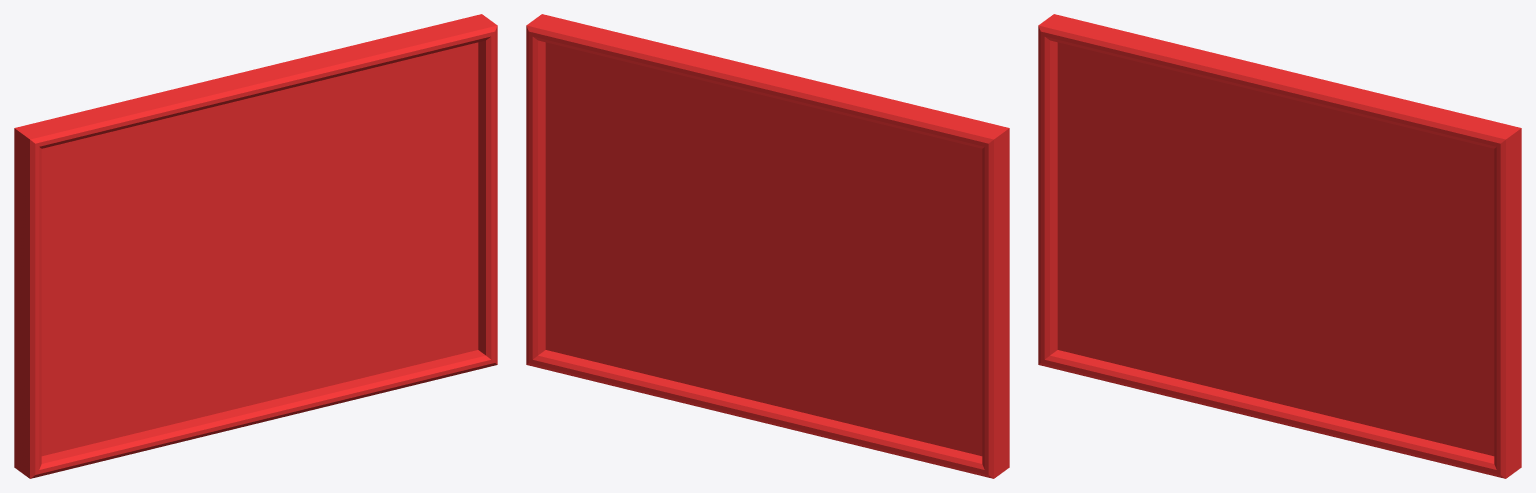
File: WindowLeaf_01_001.fbx
3 views of the same model, side by side, from view 1: azimuth 30°, elevation 25°; view 2: azimuth 150°, elevation 25°; view 3: azimuth 330°, elevation 25° (orthographic).
Parts seen in each view (by area): view 1: Window_leaf_01_001; view 2: Window_leaf_01_001; view 3: Window_leaf_01_001.
Part boxes in pixels (<box>): Window_leaf_01_001: <box>14,14,497,478</box>; Window_leaf_01_001: <box>526,14,1009,478</box>; Window_leaf_01_001: <box>1038,14,1521,478</box>.
Size of the model in its own units: 60.52 by 41.98 by 4.16.
